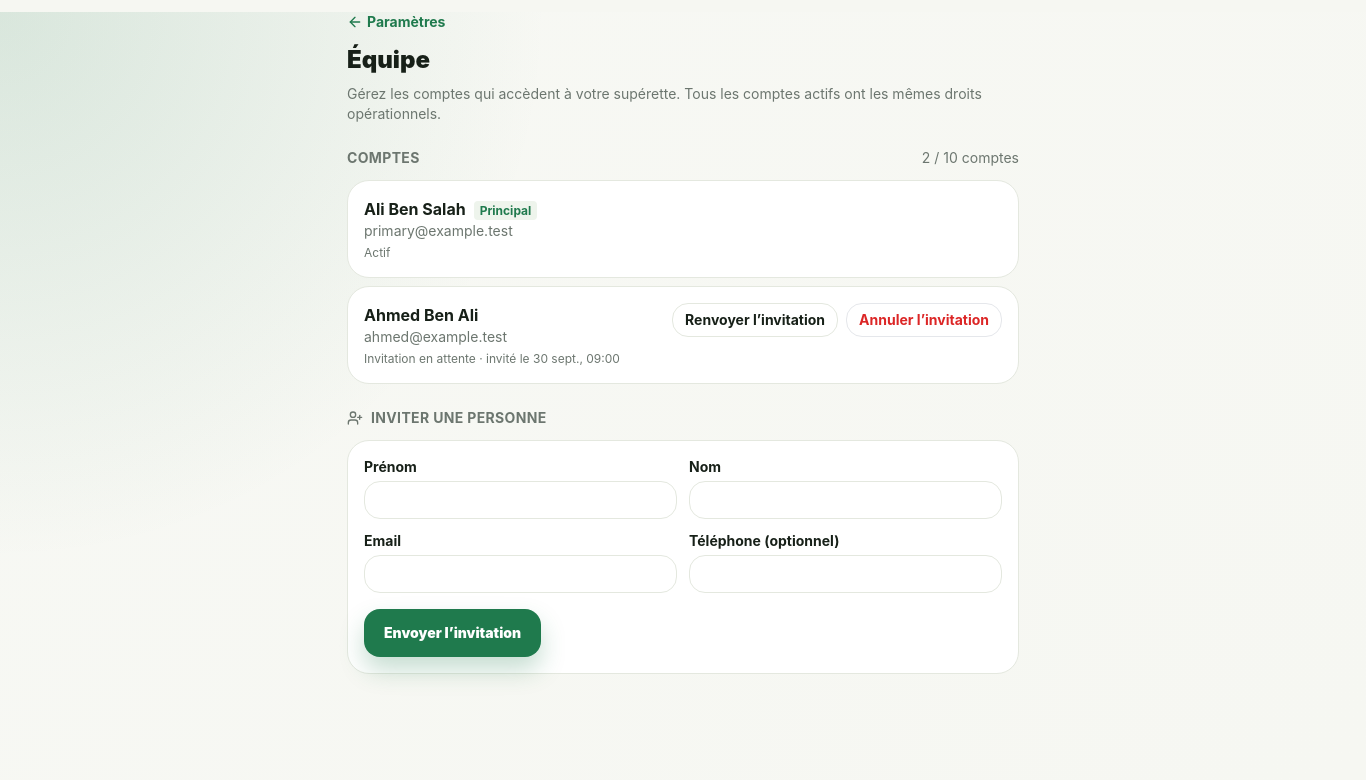
it: MerchantTeamPage (MERCHANT-TEAM-006) › bloque une invitation incomplète sans appel API
The width and height of the screenshot is (1366, 780).
Expected: the text "Ali Ben Salah" is shown, x1=364 y1=199 x2=466 y2=219
Click the button "Envoyer l’invitation". click: (453, 633)
box: x1=364 y1=609 x2=541 y2=657
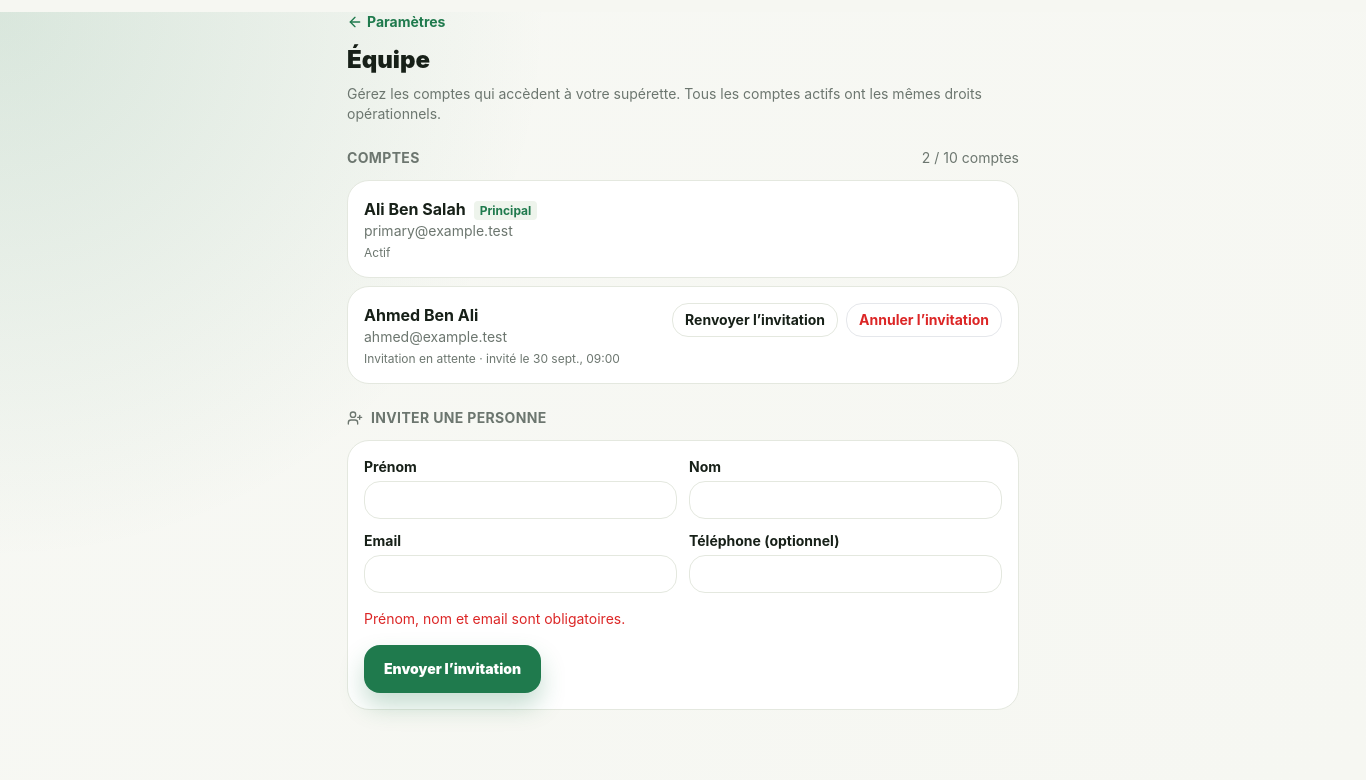
Expected: the text "Prénom, nom et email sont obligatoires." is shown, x1=364 y1=610 x2=625 y2=627
